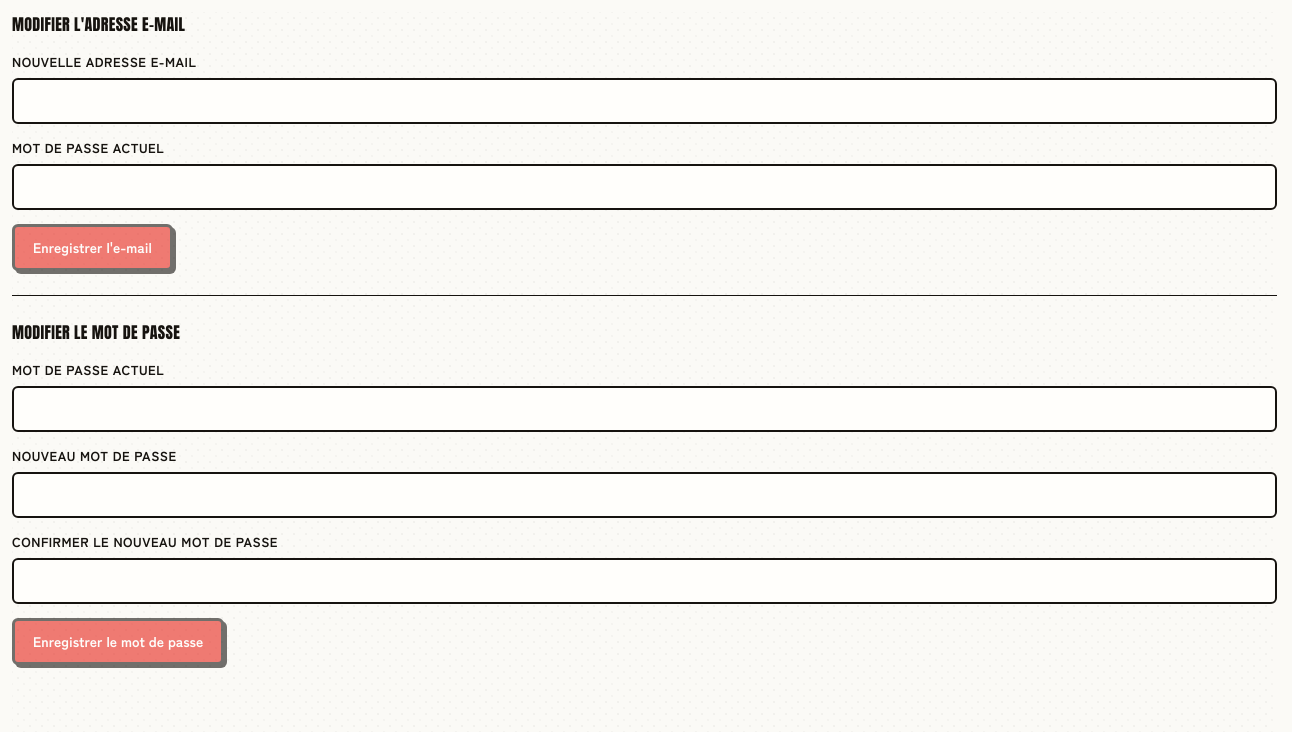
Test: SecurityIdentifiants › password form: client-side mismatch blocks submit
The image size is (1292, 732).
Expected: the heading "Modifier le mot de passe" is shown, [12, 320, 180, 344]
Step 1. Type "oldPass1" into the password field labelled "Mot de passe actuel" below "Modifier le mot de passe" → (644, 409), box [12, 386, 1277, 432]
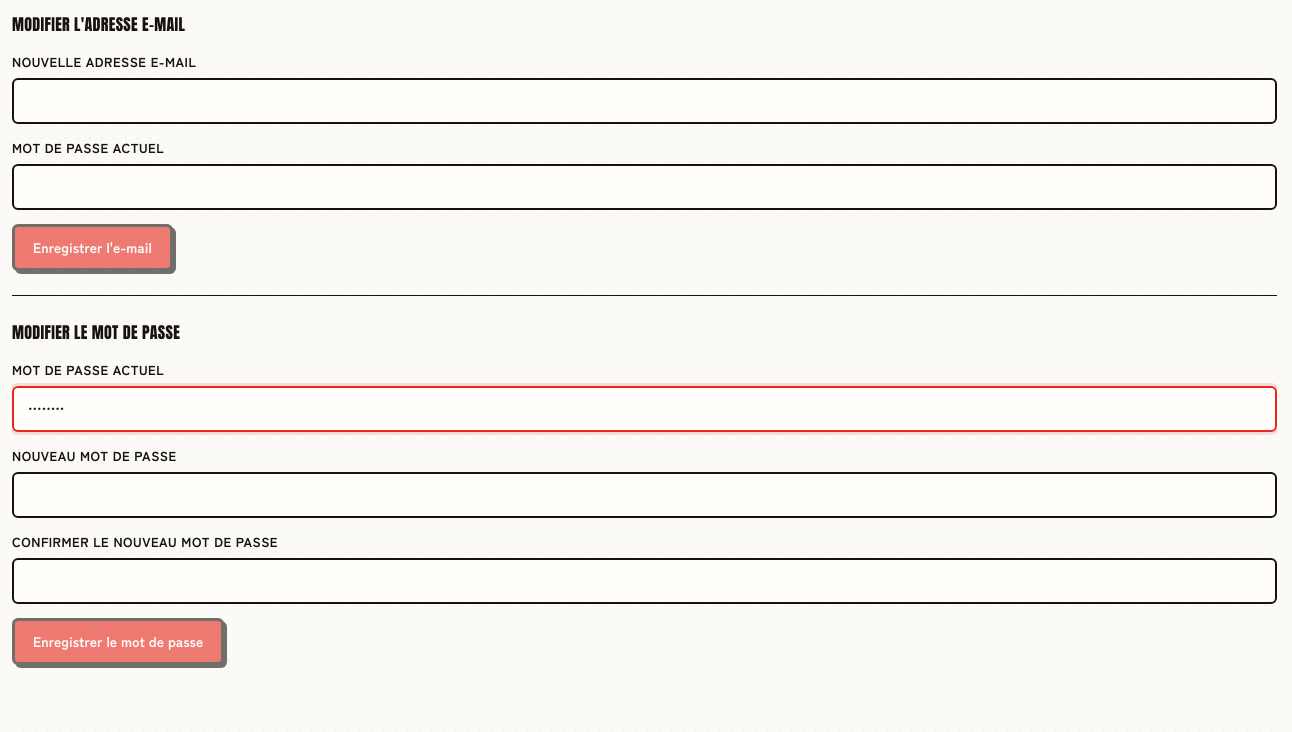
Step 2. Type "newPass1!" into the password field labelled "Nouveau mot de passe" → (644, 495), box [12, 472, 1277, 518]
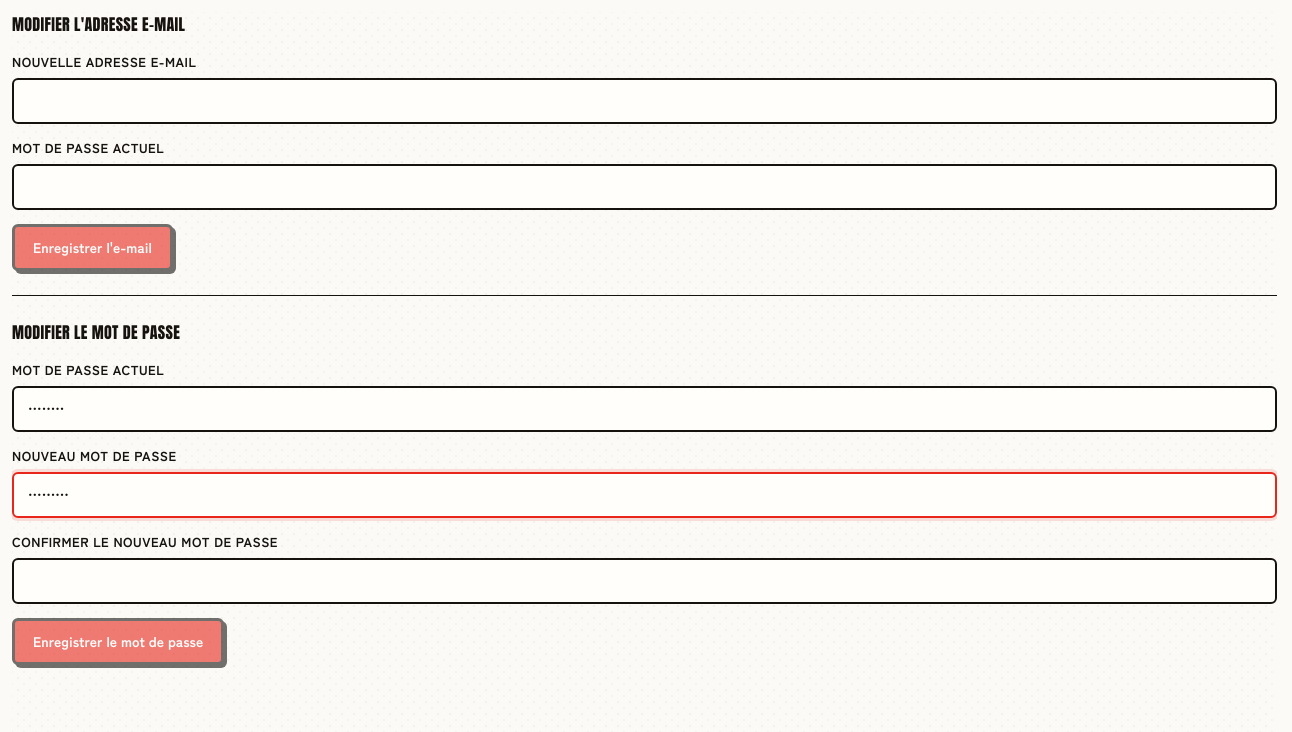
Step 3. Type "different!" into the password field labelled "Confirmer le nouveau mot de passe" → (644, 581), box [12, 558, 1277, 604]
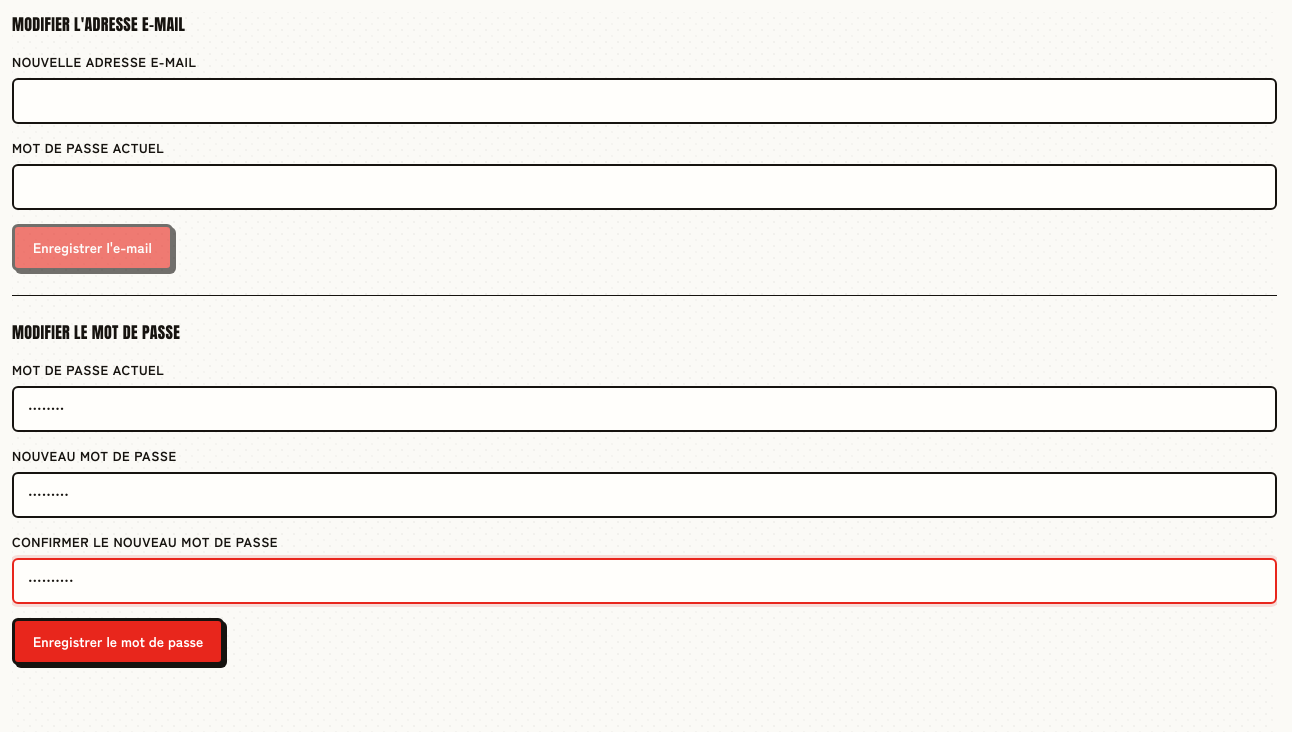
Step 4. Click the button "Enregistrer le mot de passe" → click(118, 642), box [12, 618, 224, 665]
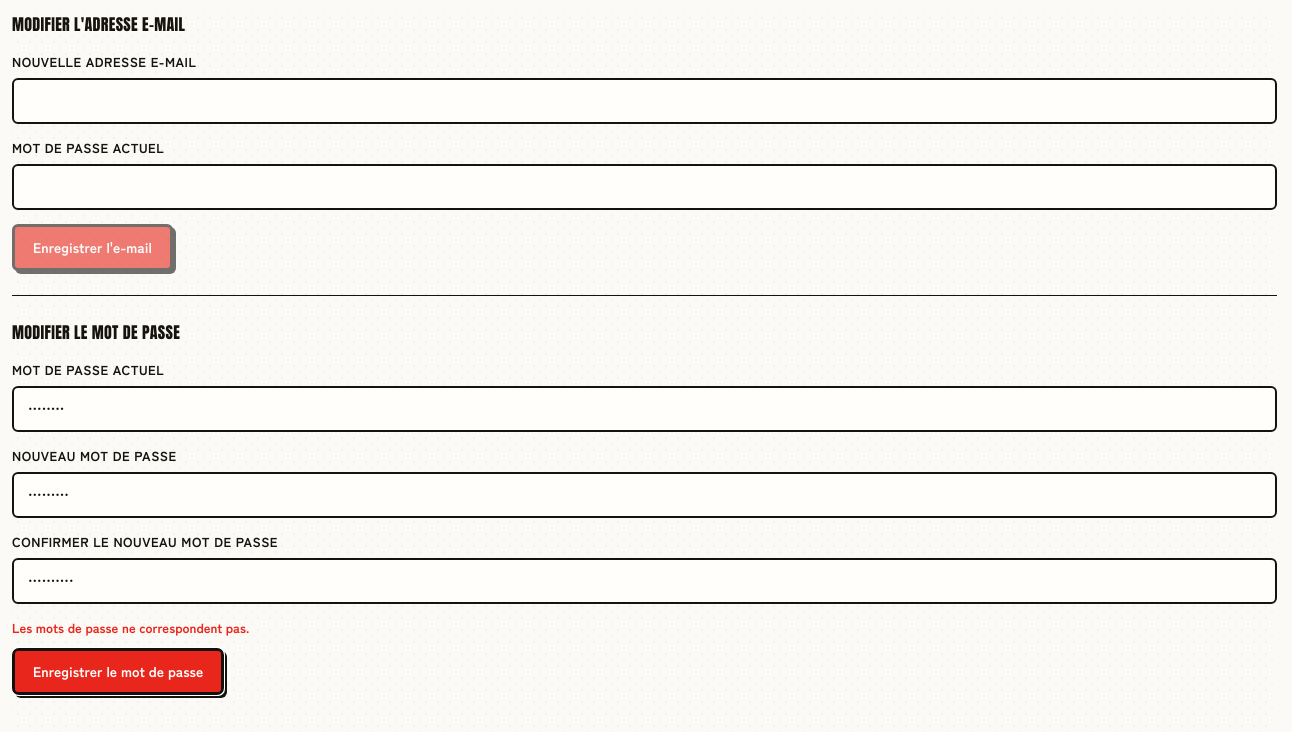
Now the text "Les mots de passe ne correspondent pas." is shown, box [12, 618, 249, 637]
